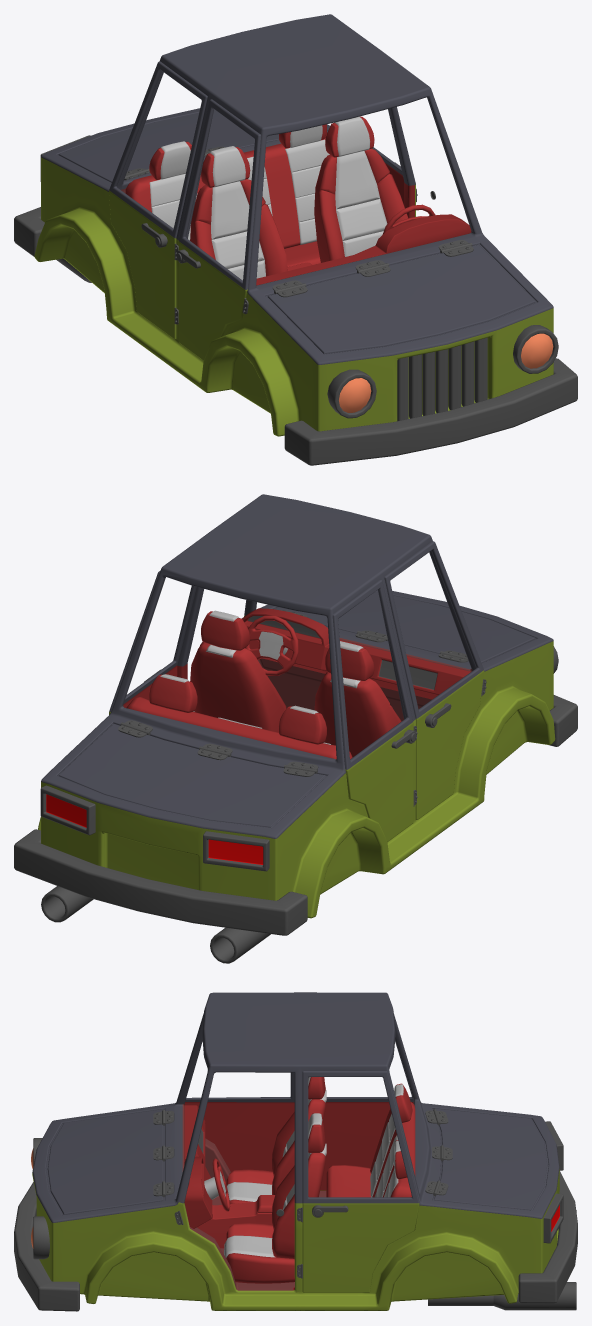
The model's file is carFrame.fbx.
The picture shows the model from 3 angles, top to bottom: view 1: azimuth 30°, elevation 25°; view 2: azimuth 150°, elevation 25°; view 3: azimuth 270°, elevation 25°; orthographic projection. The views are drawn at different scales.
Parts seen in each view (by area): view 1: car_body, car_hidden_seat, car_bumper, car_door.002, car_door, car_grill, car_lights, car_interior, car_hinges; view 2: car_body, car_hidden_seat, car_bumper, car_door, car_door.002, car_interior, car_lights, car_tailpipe, car_hinges, car_door.003; view 3: car_body, car_hidden_seat, car_door.003, car_bumper, car_door, car_interior, car_door.002, car_hinges, car_lights, car_tailpipe.
Part boxes in pixels (x1=…): car_body: x1=34, y1=14, x2=553, y2=436; car_hidden_seat: x1=125, y1=116, x2=408, y2=280; car_bumper: x1=14, y1=207, x2=577, y2=465; car_door.002: x1=109, y1=61, x2=207, y2=339; car_door: x1=178, y1=99, x2=260, y2=360; car_grill: x1=397, y1=337, x2=487, y2=421; car_lights: x1=40, y1=135, x2=558, y2=418; car_interior: x1=256, y1=204, x2=471, y2=285; car_hinges: x1=124, y1=146, x2=473, y2=324; car_body: x1=38, y1=494, x2=555, y2=918; car_hidden_seat: x1=126, y1=610, x2=401, y2=759; car_bumper: x1=14, y1=695, x2=577, y2=935; car_door: x1=384, y1=541, x2=484, y2=819; car_door.002: x1=332, y1=580, x2=413, y2=841; car_interior: x1=242, y1=608, x2=470, y2=699; car_lights: x1=40, y1=646, x2=558, y2=871; car_tailpipe: x1=41, y1=886, x2=270, y2=963; car_hinges: x1=118, y1=610, x2=486, y2=806; car_door.003: x1=109, y1=571, x2=196, y2=714; car_body: x1=32, y1=992, x2=559, y2=1310; car_hidden_seat: x1=224, y1=1077, x2=415, y2=1283; car_door.003: x1=302, y1=1071, x2=419, y2=1292; car_bumper: x1=14, y1=1171, x2=577, y2=1311; car_door: x1=184, y1=1072, x2=294, y2=1171; car_interior: x1=184, y1=1105, x2=274, y2=1248; car_door.002: x1=320, y1=1041, x2=413, y2=1190; car_hinges: x1=153, y1=1109, x2=452, y2=1278; car_lights: x1=31, y1=1121, x2=563, y2=1259; car_tailpipe: x1=428, y1=1210, x2=576, y2=1310.
Bounding box in the file's own units: 170 × 161 × 337.
